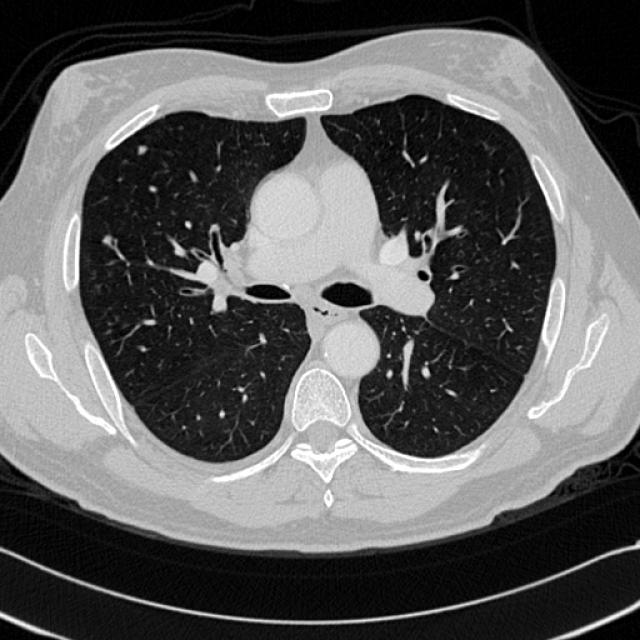nodule: (97, 230, 115, 248)
